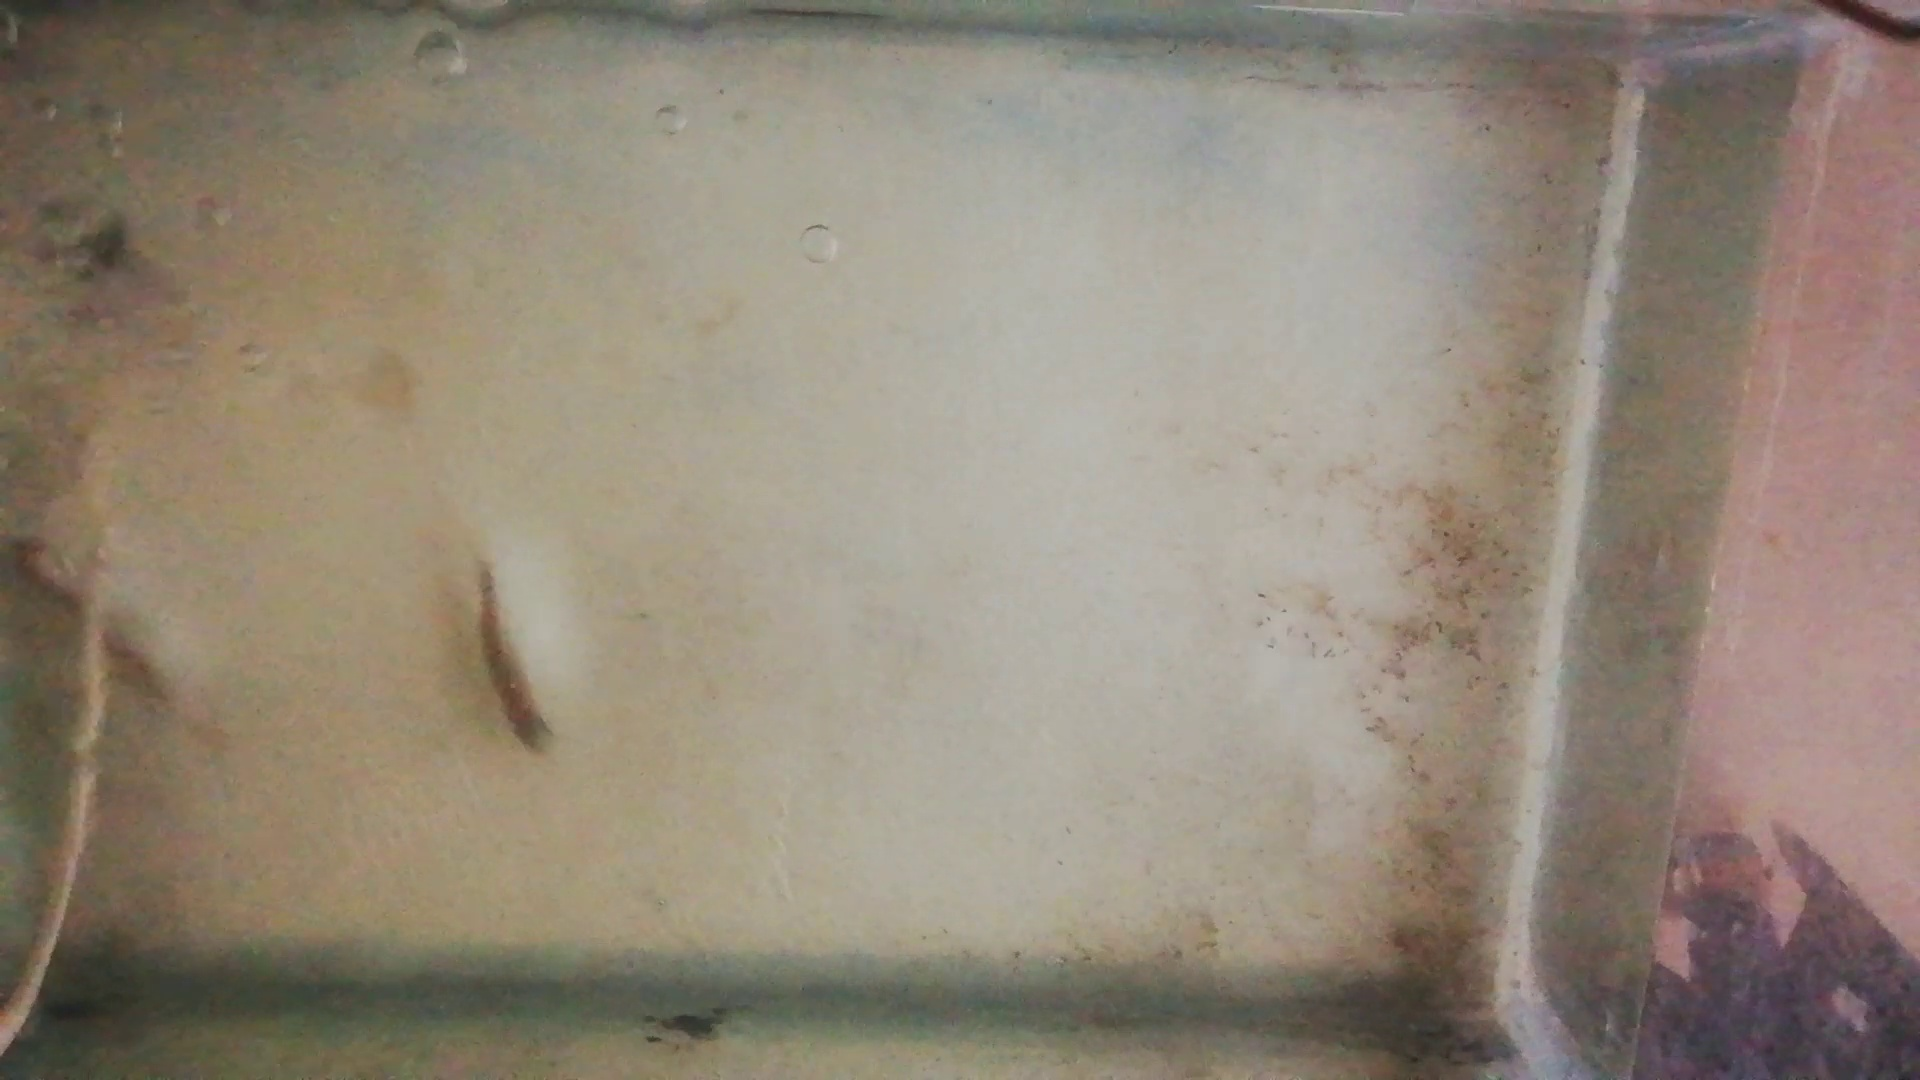fish: (11, 533, 164, 702), (473, 563, 553, 757)
